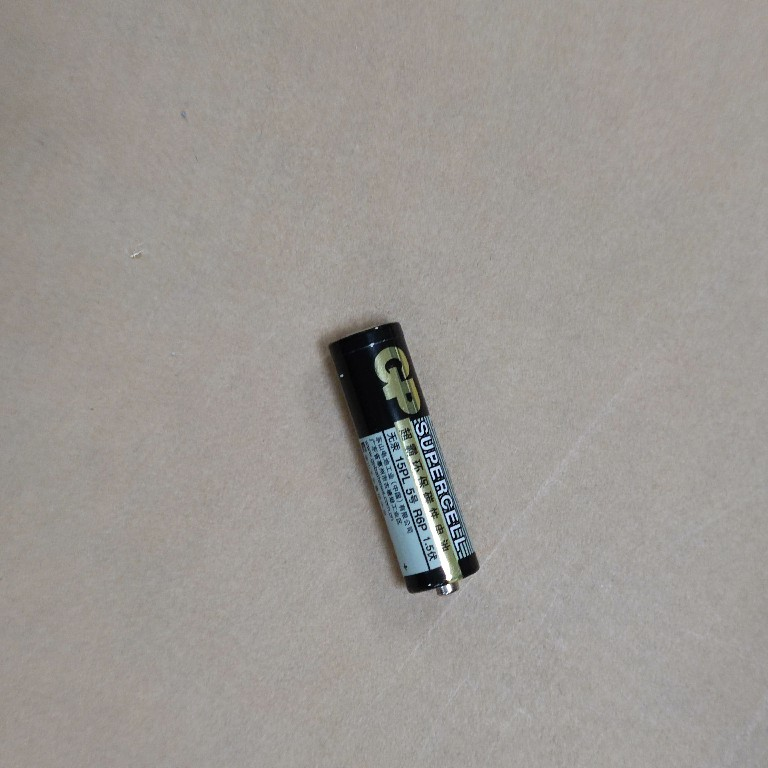charge: (325, 316, 482, 603)
